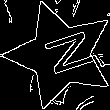N_W: (29, 28, 92, 82)
